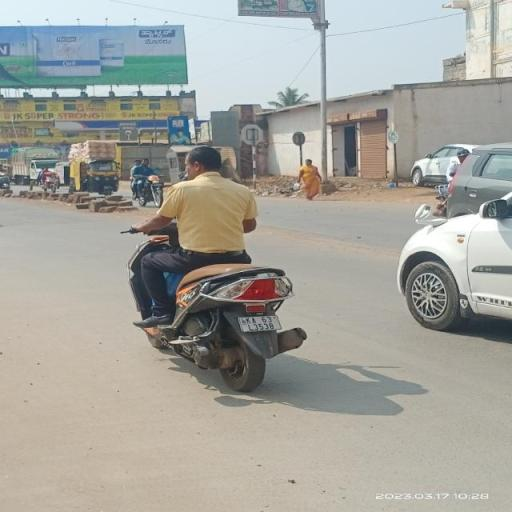bike: (118, 144, 312, 391)
numberplate: (239, 314, 280, 332)
withouthelmet: (186, 147, 222, 175)
